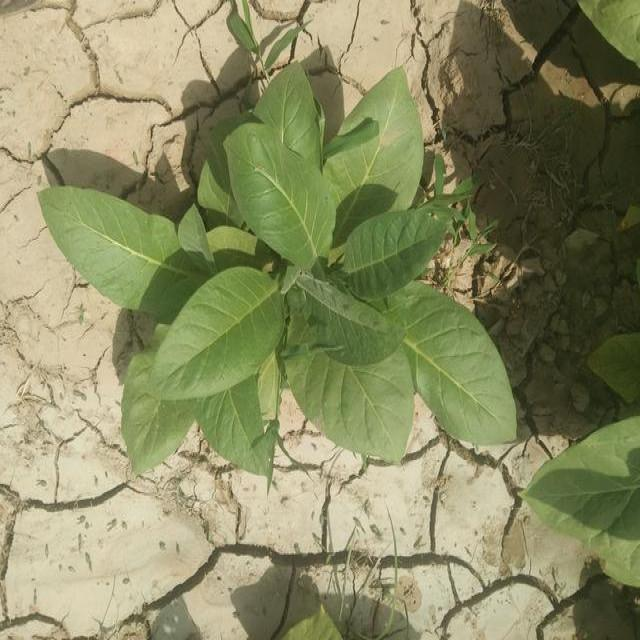crop: (59, 192, 268, 469), (294, 265, 516, 457), (244, 90, 448, 276)
